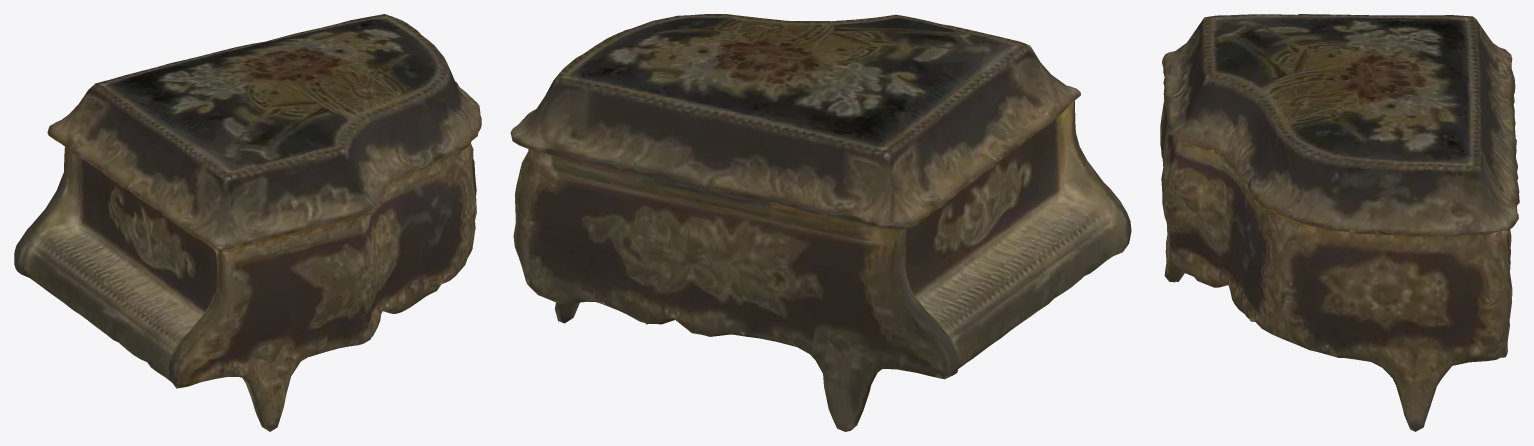
Rendered from obj_art_of_chokin_vintage_piano_.glb.
The picture shows the model from 3 angles, left to right: view 1: azimuth 30°, elevation 25°; view 2: azimuth 150°, elevation 25°; view 3: azimuth 270°, elevation 25°; orthographic projection. The views are drawn at different scales.
Parts seen in each view (by area): view 1: Object_2; view 2: Object_2; view 3: Object_2.
Part boxes in pixels (x1,y1,x2,y2): Object_2: (14,14,481,431); Object_2: (510,14,1131,431); Object_2: (1160,14,1519,431).
Bounding box in the file's own units: 0.16 × 0.1013 × 0.121.
1 material, 1 textured.
